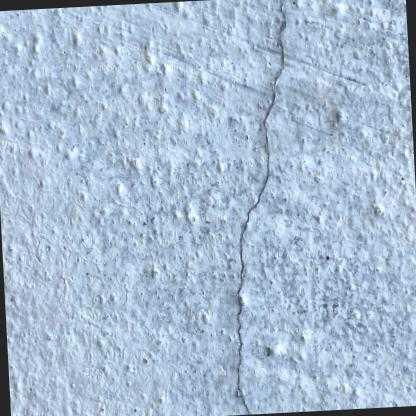crack: (234, 0, 289, 414)
